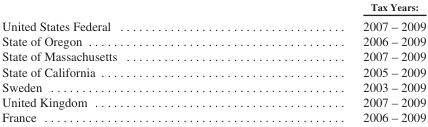table: (1, 0, 425, 123)
table column: (1, 0, 239, 123), (239, 0, 425, 123)
table column header: (1, 0, 425, 15)
table row: (1, 15, 425, 33), (1, 78, 425, 94), (1, 0, 425, 15), (1, 33, 425, 48), (1, 48, 425, 63), (1, 63, 425, 78), (1, 94, 425, 109), (1, 109, 425, 123)
